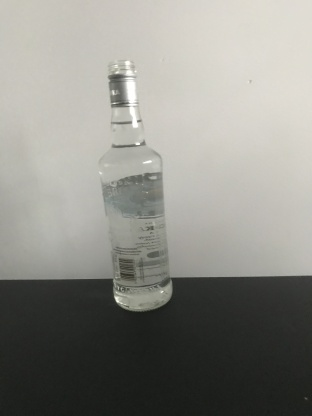nakretka: (106, 60, 141, 107)
